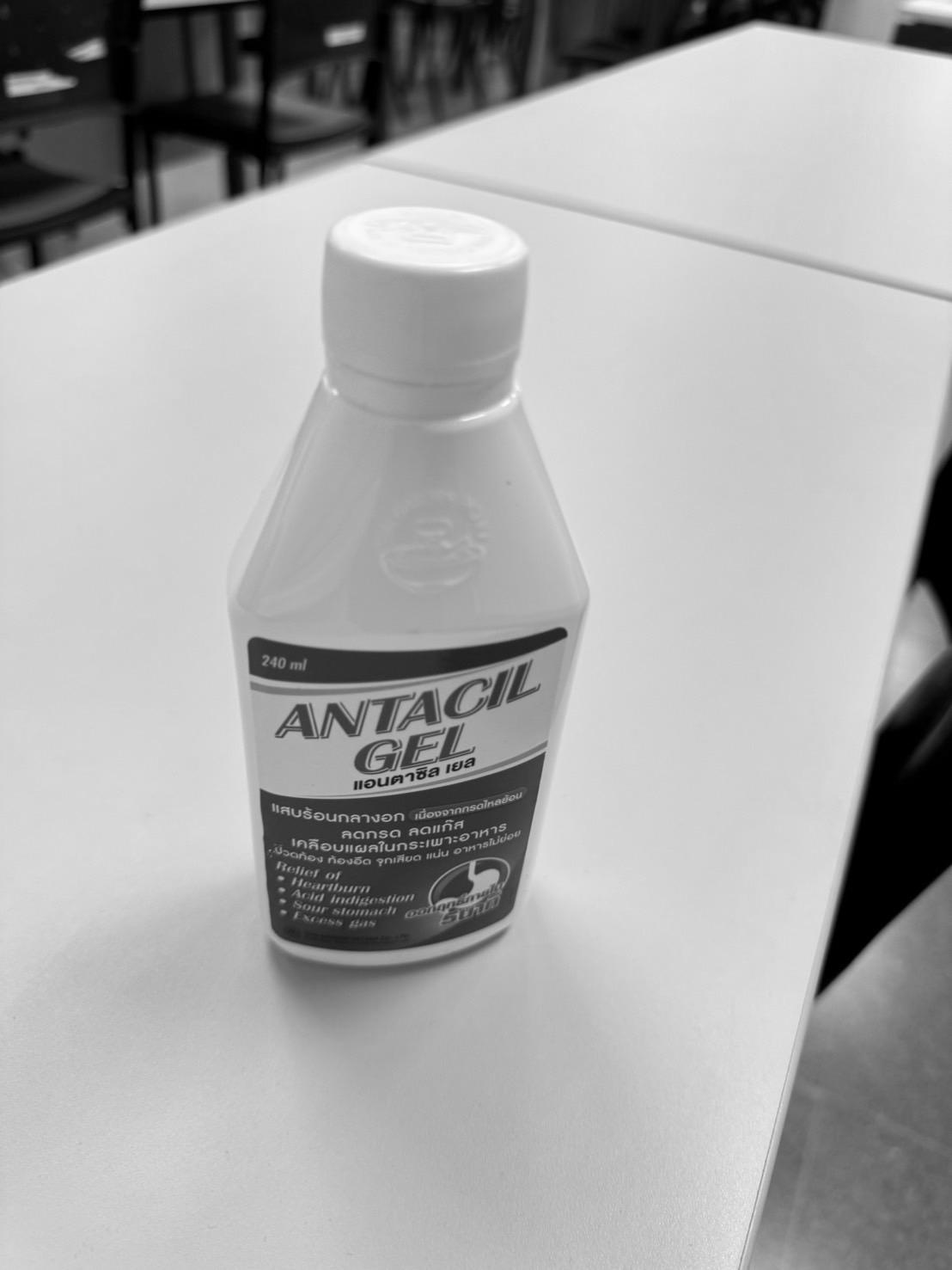bottle: (238, 208, 587, 966)
